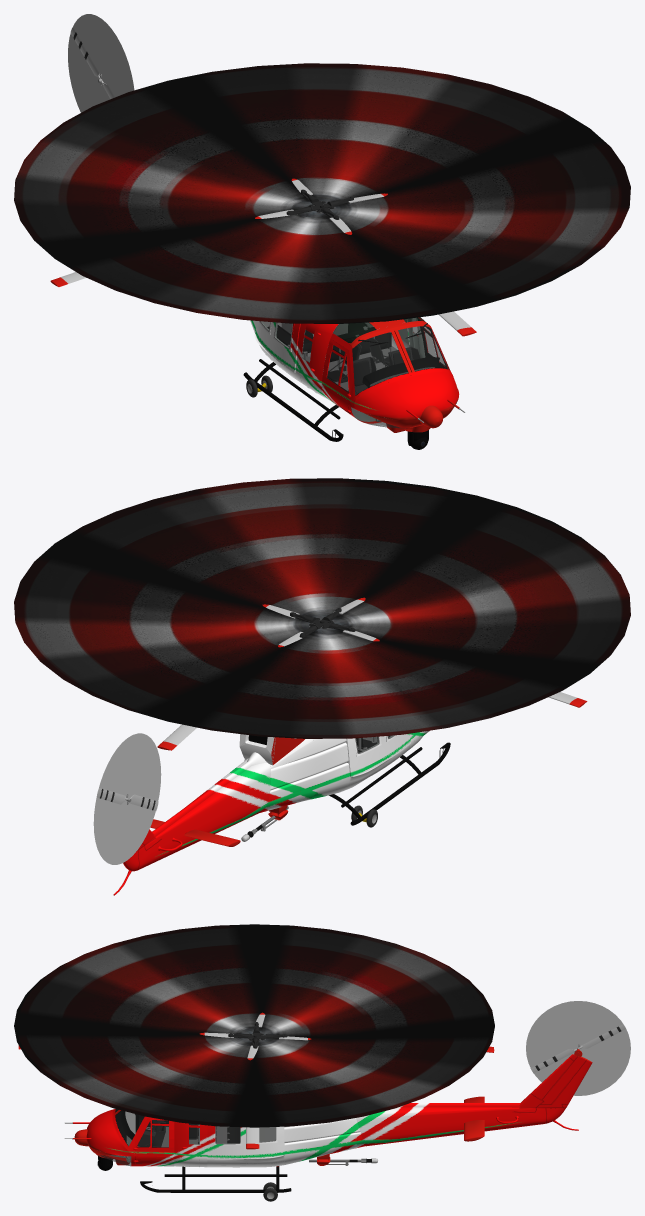
The model's file is resq_heli.fbx.
3 renders of one model, top to bottom at view 1: azimuth 30°, elevation 25°; view 2: azimuth 150°, elevation 25°; view 3: azimuth 270°, elevation 25°, orthographic. The views are drawn at different scales.
Parts seen in each view (by area): view 1: prop_fly, body, sub_prop_fly, blade, pilot_door, cargo_door_r; view 2: prop_fly, body, sub_prop_fly, blade, cargo_door_r, sub_prop; view 3: prop_fly, body, sub_prop_fly, cargo_door_l, co_pilot_door, blade, sub_prop.
Boxes of the visible parts, x1,y1,x2,y2 form: prop_fly: (14,63,630,323); body: (98,79,465,441); sub_prop_fly: (68,14,134,112); blade: (50,178,476,336); pilot_door: (321,338,352,413); cargo_door_r: (255,321,300,372); prop_fly: (14,478,630,738); body: (113,730,450,895); sub_prop_fly: (93,733,161,864); blade: (157,597,587,750); cargo_door_r: (345,733,410,776); sub_prop: (96,788,158,810); prop_fly: (14,924,494,1127); body: (64,1048,592,1192); sub_prop_fly: (526,1001,630,1095); cargo_door_l: (207,1125,284,1159); co_pilot_door: (135,1117,174,1163); blade: (18,1012,494,1149); sub_prop: (530,1024,625,1073).
Bounding box in the file's own units: 157418 × 62411 × 201877.
